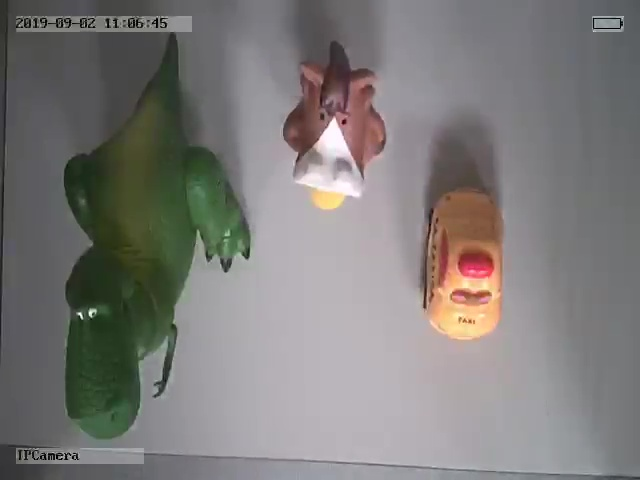car: (420, 185, 507, 342)
horse: (283, 42, 387, 210)
rex: (60, 50, 251, 437)
